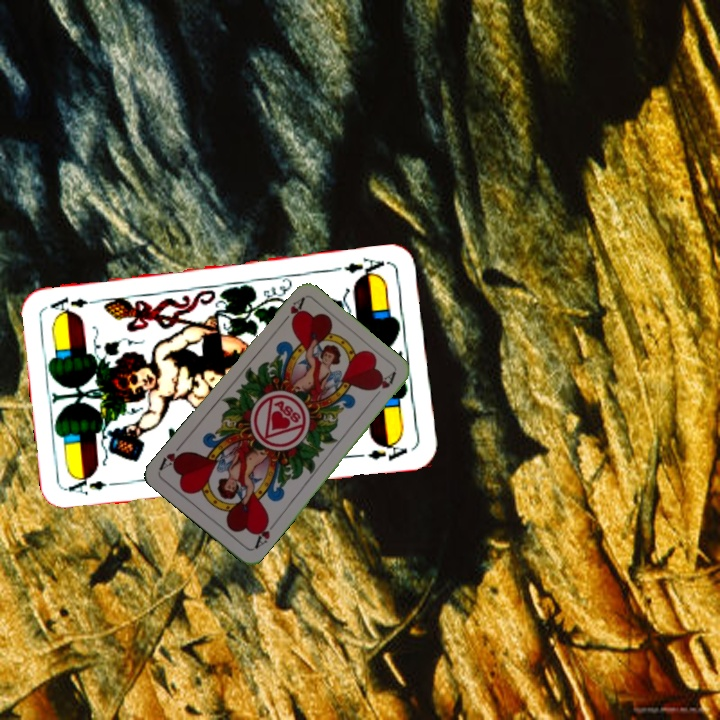EA: (65, 471, 124, 498), (340, 253, 391, 282)
HA: (250, 514, 279, 552), (276, 294, 307, 328)
